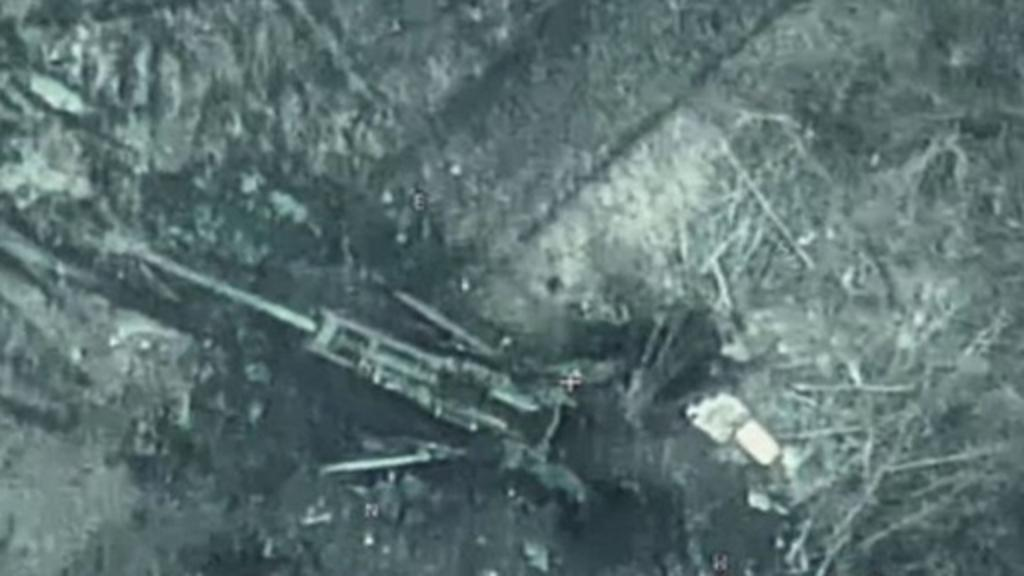ART: (122, 234, 600, 514)
